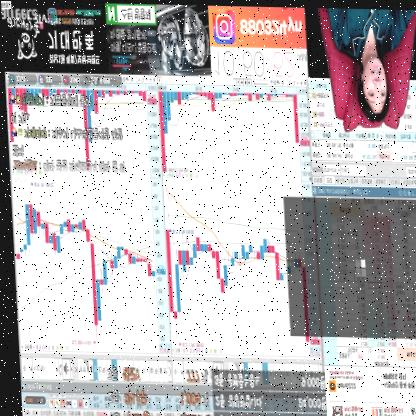streamer: (323, 6, 416, 123)
